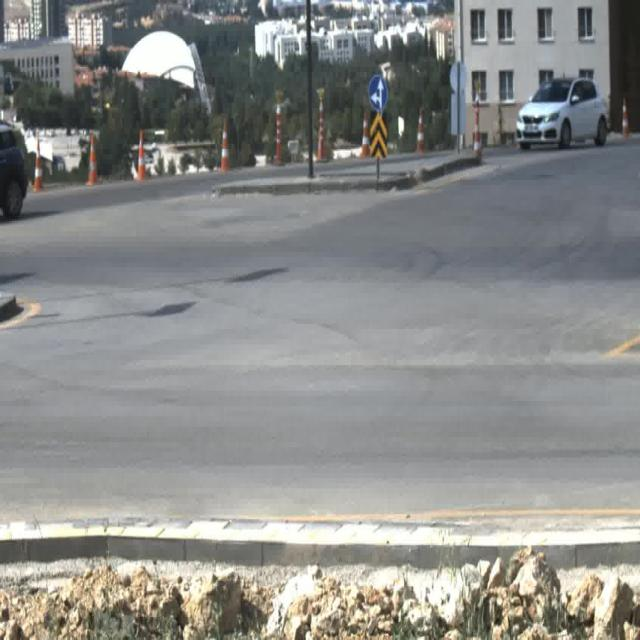Car: (517, 78, 607, 147), (0, 121, 26, 223)
